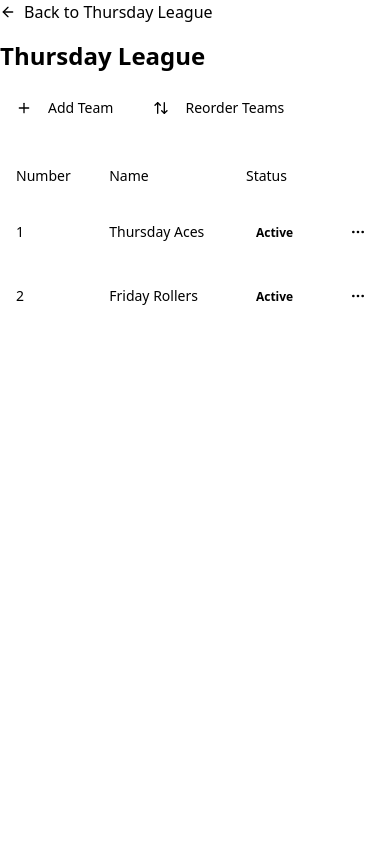
Test: TeamsPage team deletion › deletes the selected team and invalidates all affected list, roster, membership, bowler, and financial keys
The image size is (390, 844).
Click the button without text in the row of "Thursday Aces".
click(358, 232)  # box top-left (342, 216), bottom-right (374, 248)
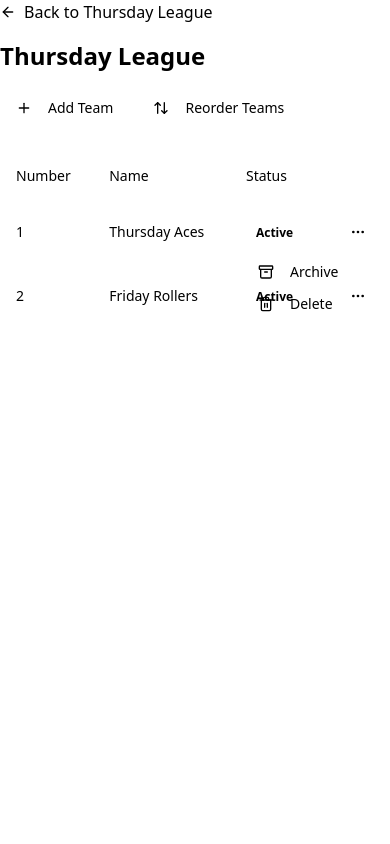
Click the menu item "Delete".
click(295, 304)  # box top-left (258, 294), bottom-right (333, 313)
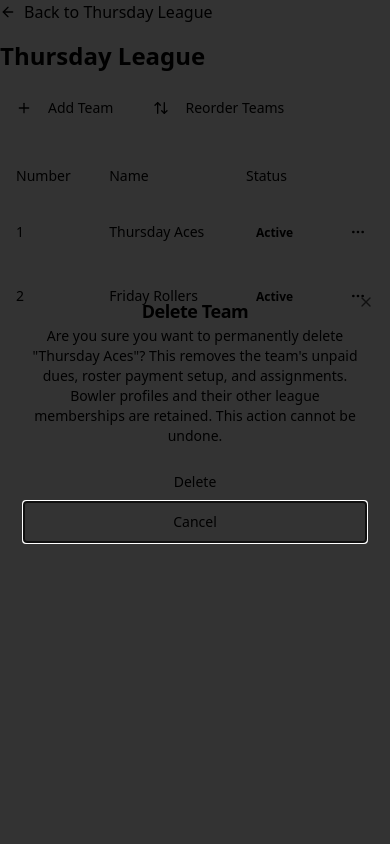
Click the button "Delete".
click(195, 482)  # box top-left (24, 462), bottom-right (366, 502)
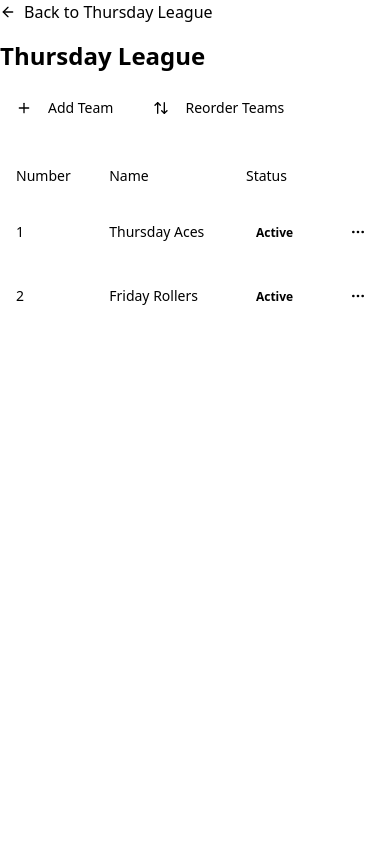
Check: the dialog is gone
